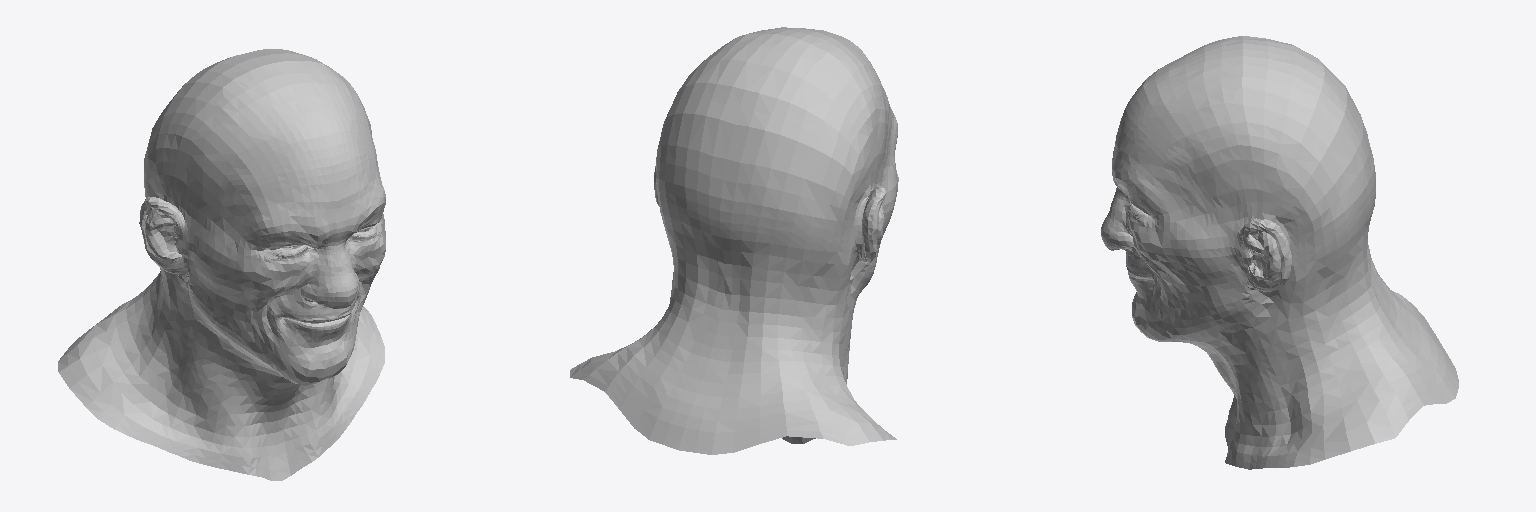
The model's file is Victor_happy.obj.
3 renders of one model, left to right at view 1: azimuth 30°, elevation 25°; view 2: azimuth 150°, elevation 25°; view 3: azimuth 270°, elevation 25°, orthographic.
Parts seen in each view (by area): view 1: Victor_headGEO Victor_Mesh def:geo FTI_Victor; view 2: Victor_headGEO Victor_Mesh def:geo FTI_Victor; view 3: Victor_headGEO Victor_Mesh def:geo FTI_Victor.
Boxes of the visible parts, x1,y1,x2,y2 form: Victor_headGEO Victor_Mesh def:geo FTI_Victor: [58, 49, 385, 480]; Victor_headGEO Victor_Mesh def:geo FTI_Victor: [570, 27, 898, 454]; Victor_headGEO Victor_Mesh def:geo FTI_Victor: [1101, 36, 1458, 469].
Bounding box in the file's own units: 3.54 × 4.64 × 3.65.